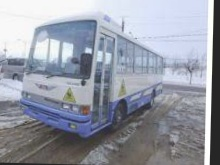bus: (21, 11, 165, 142)
